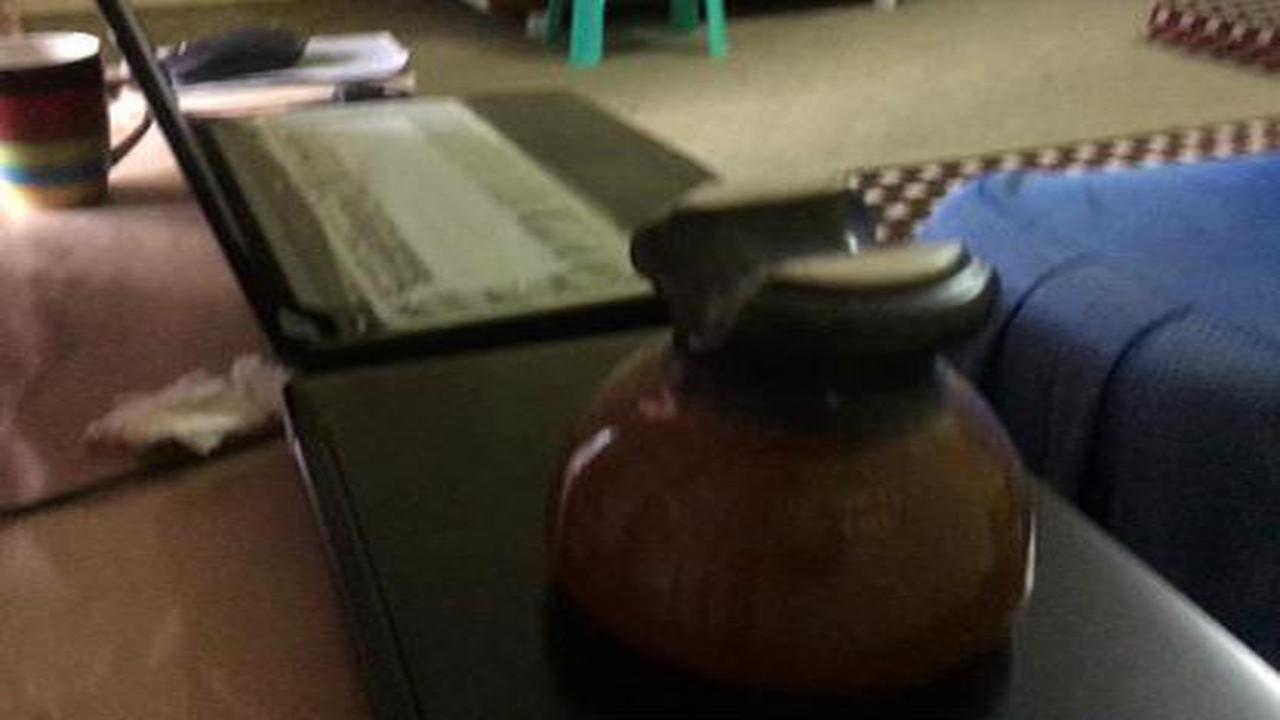insulator_pin: (530, 161, 1059, 710)
